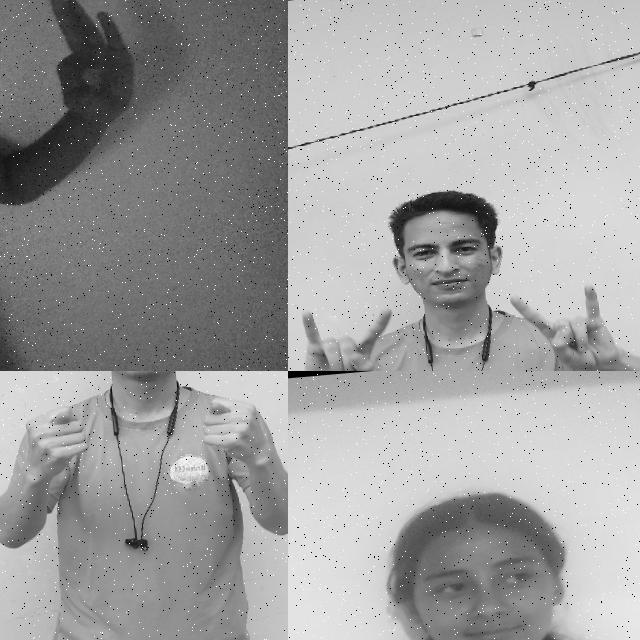Corna: (504, 279, 631, 371), (288, 293, 405, 371)
Dulya: (190, 386, 276, 482), (13, 398, 96, 491)
Fist Mouth: (374, 482, 614, 640)
Okay: (37, 0, 154, 148)
